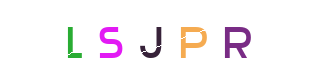J: (127, 0, 207, 80)
L: (32, 0, 112, 80)
P: (150, 0, 230, 80)
R: (169, 0, 249, 80)
S: (70, 0, 150, 80)
